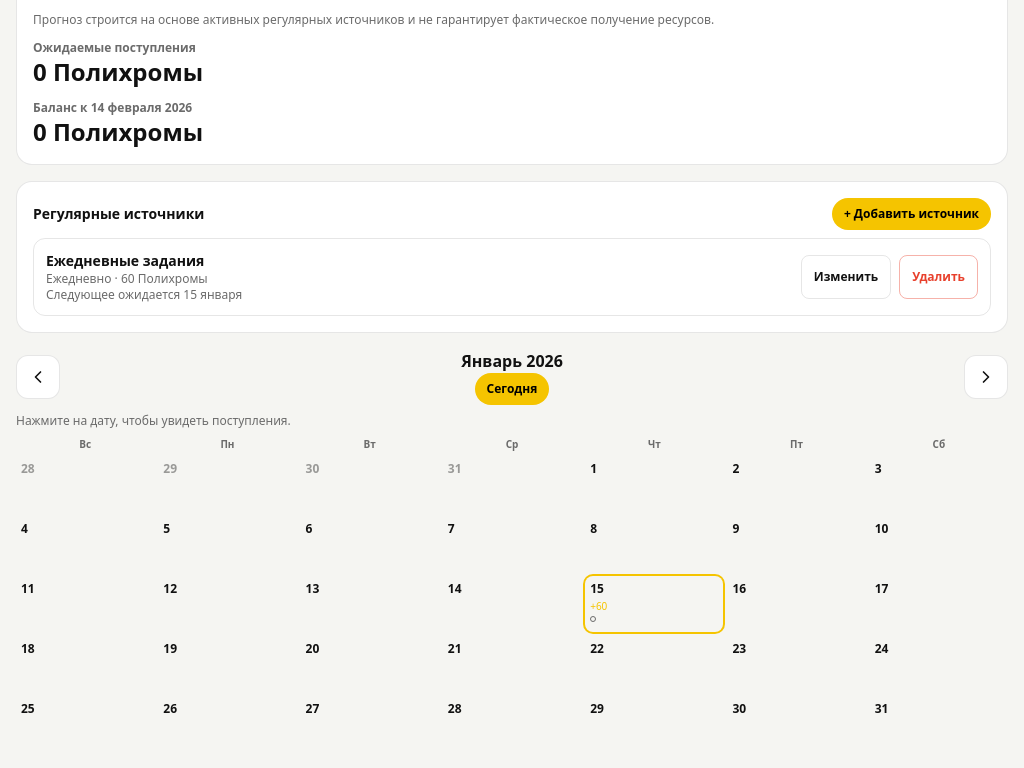
Test: Calendar modal dialogs — systematic accessibility pass › cancel-occurrence-confirm dialog: accessible, reachable directly from a virtual occurrence's 'Отменить'
The width and height of the screenshot is (1024, 768).
(page scrolled)
Click the button named "2026-01-15".
click(654, 604)  # box [585,576,723,632]
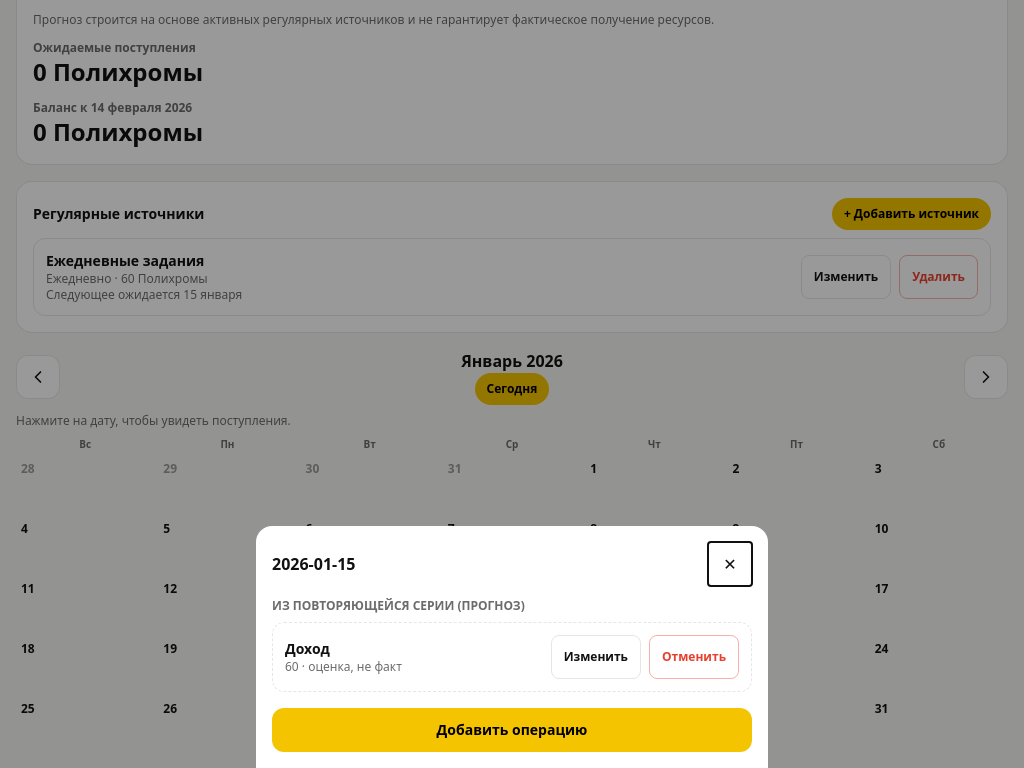
Click the button "Отменить".
click(694, 657)  # box [649,635,739,679]
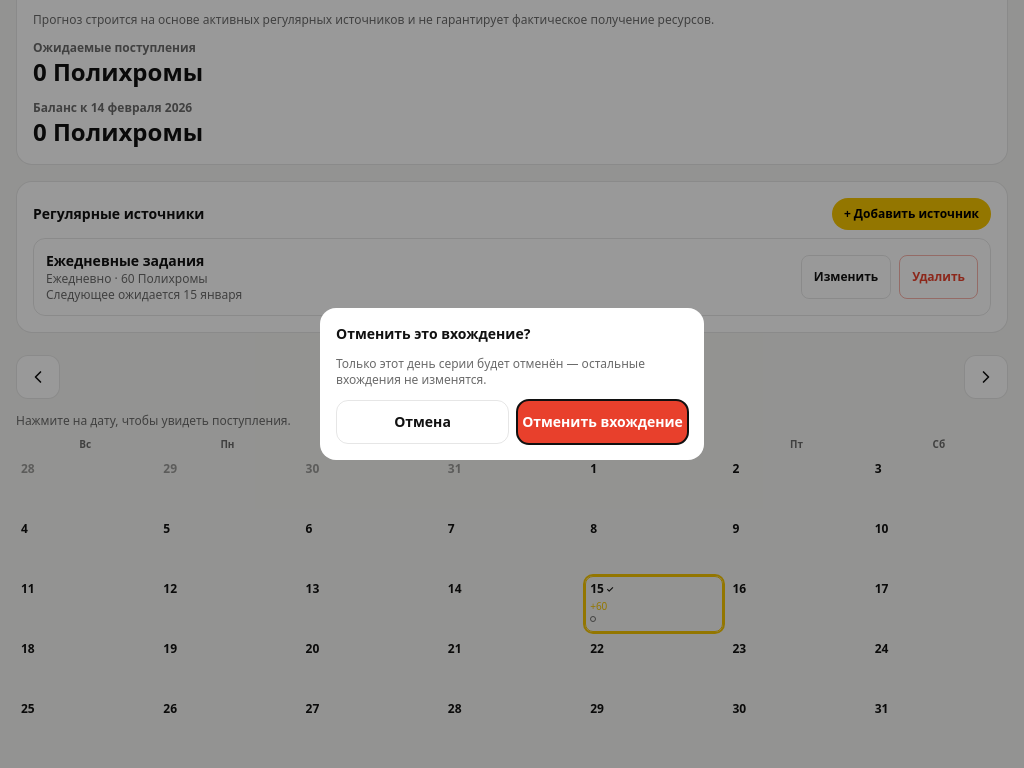
Press Escape
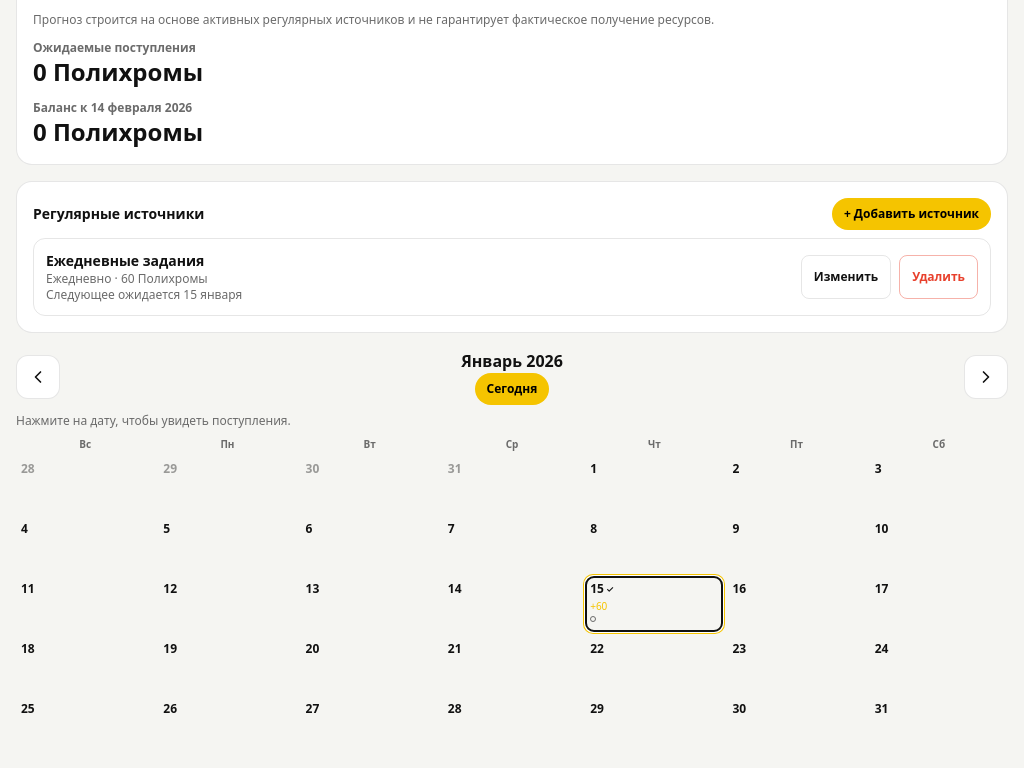
Now the heading "Отменить это вхождение" is gone
